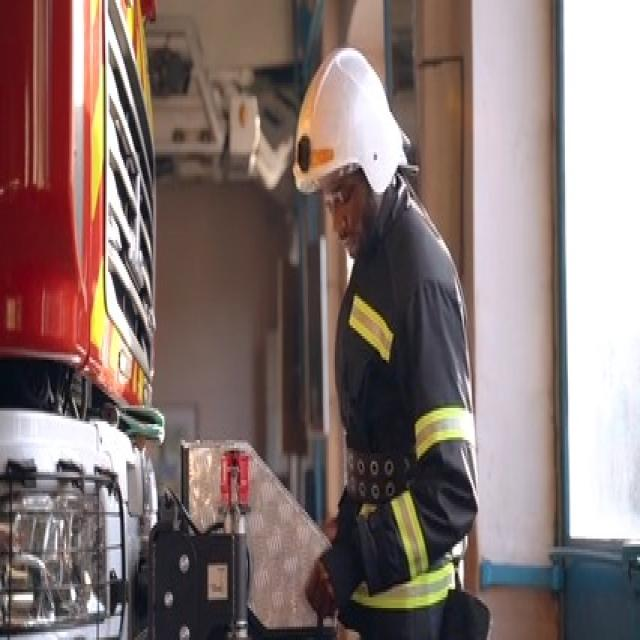Helmet_Wearer: (288, 42, 413, 252)
Jacket_Wearer: (314, 189, 477, 640)
Person: (283, 41, 481, 640)
